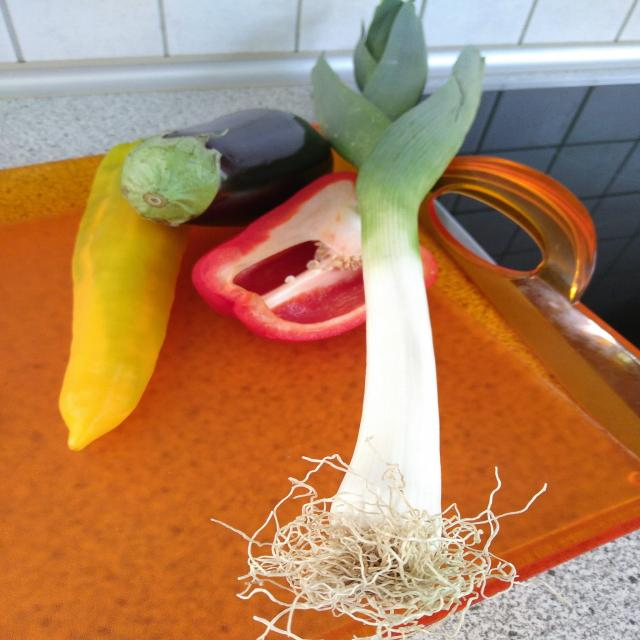Eggplant: (117, 106, 342, 228)
Leek: (211, 0, 520, 640)
Pepper: (188, 168, 440, 344), (55, 140, 188, 450)
